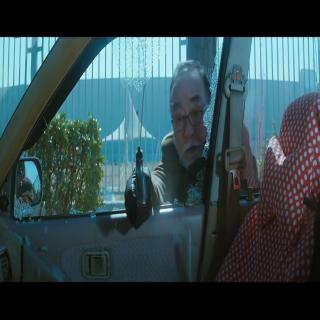gun: (128, 142, 152, 224)
